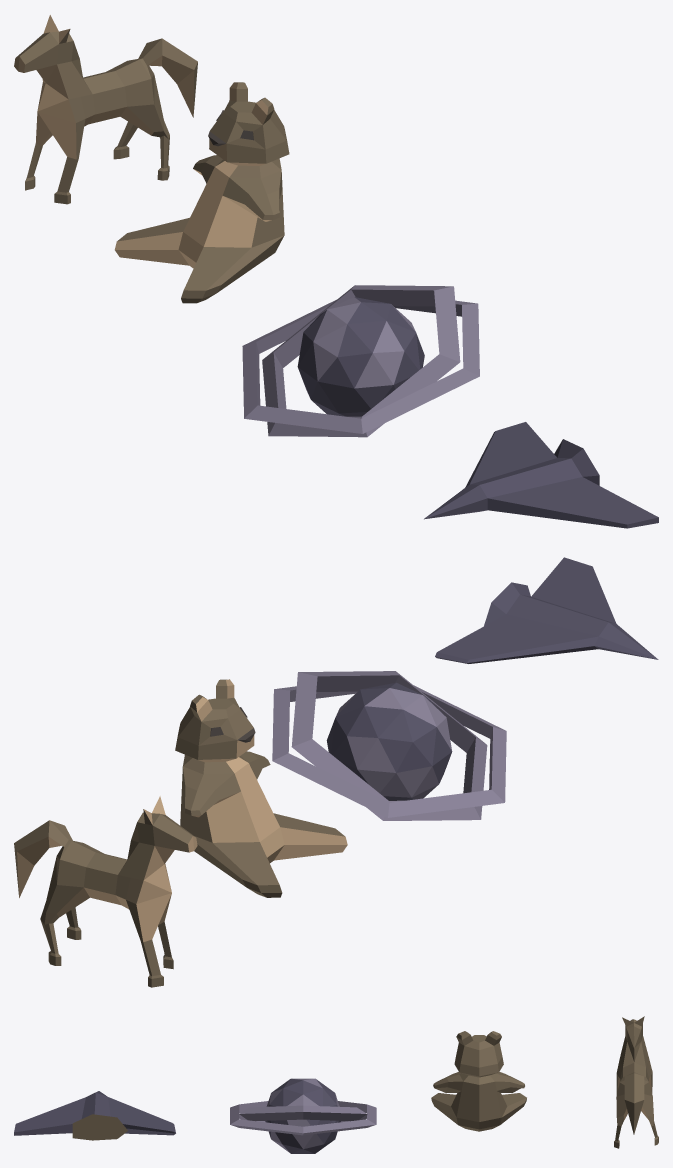
File: lab_toysFREE.fbx
3 renders of one model, top to bottom at view 1: azimuth 30°, elevation 25°; view 2: azimuth 150°, elevation 25°; view 3: azimuth 270°, elevation 25°, orthographic. The views are drawn at different scales.
Visible parts, largest first — view 1: Icosphere, Cylinder.001, Cylinder, Cylinder.002; view 2: Icosphere, Cylinder.001, Cylinder, Cylinder.002; view 3: Icosphere, Cylinder.001, Cylinder.002, Cylinder.
Part boxes in pixels (x1,y1,x2,y2): Icosphere: (242, 285, 479, 437); Cylinder.001: (114, 82, 289, 303); Cylinder: (14, 15, 197, 204); Cylinder.002: (424, 422, 658, 528); Icosphere: (272, 671, 506, 820); Cylinder.001: (175, 679, 347, 897); Cylinder: (14, 796, 197, 987); Cylinder.002: (435, 557, 658, 663); Icosphere: (230, 1078, 376, 1153); Cylinder.001: (431, 1031, 526, 1131); Cylinder.002: (14, 1091, 175, 1140); Cylinder: (614, 1016, 658, 1148).
Size of the model in its own units: 264 by 232 by 1035.
